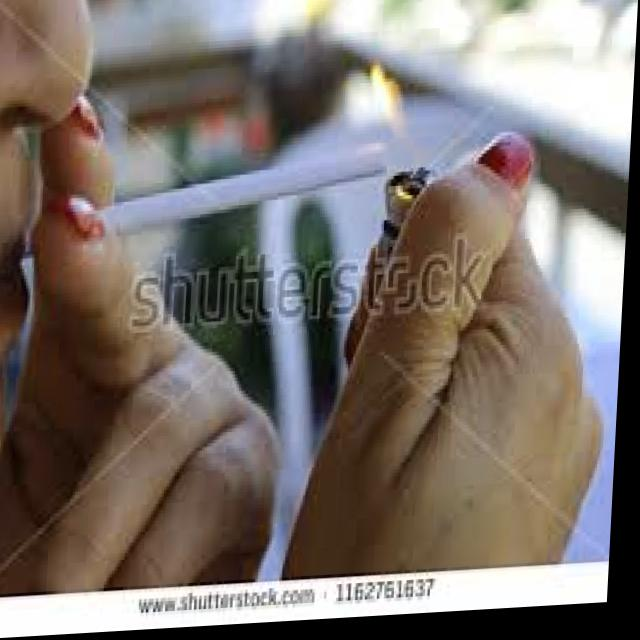fire: (341, 57, 440, 184)
